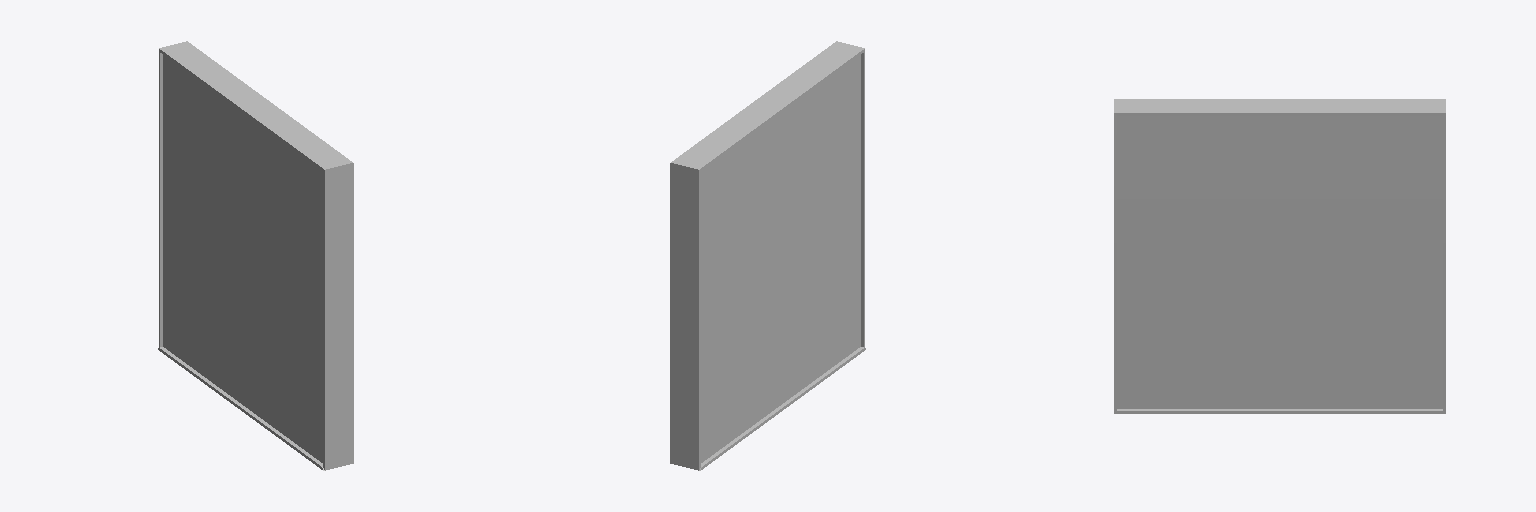
File: simpleWall.obj
3 views of the same model, side by side, from view 1: azimuth 30°, elevation 25°; view 2: azimuth 150°, elevation 25°; view 3: azimuth 270°, elevation 25° (orthographic).
Visible parts, largest first — view 1: Wall1_Cube.001; view 2: Wall1_Cube.001; view 3: Wall1_Cube.001.
Boxes of the visible parts, x1,y1,x2,y2 form: Wall1_Cube.001: [158, 41, 353, 470]; Wall1_Cube.001: [670, 41, 865, 470]; Wall1_Cube.001: [1114, 99, 1445, 413].
Bounding box in the file's own units: 0.1073 × 1 × 1.